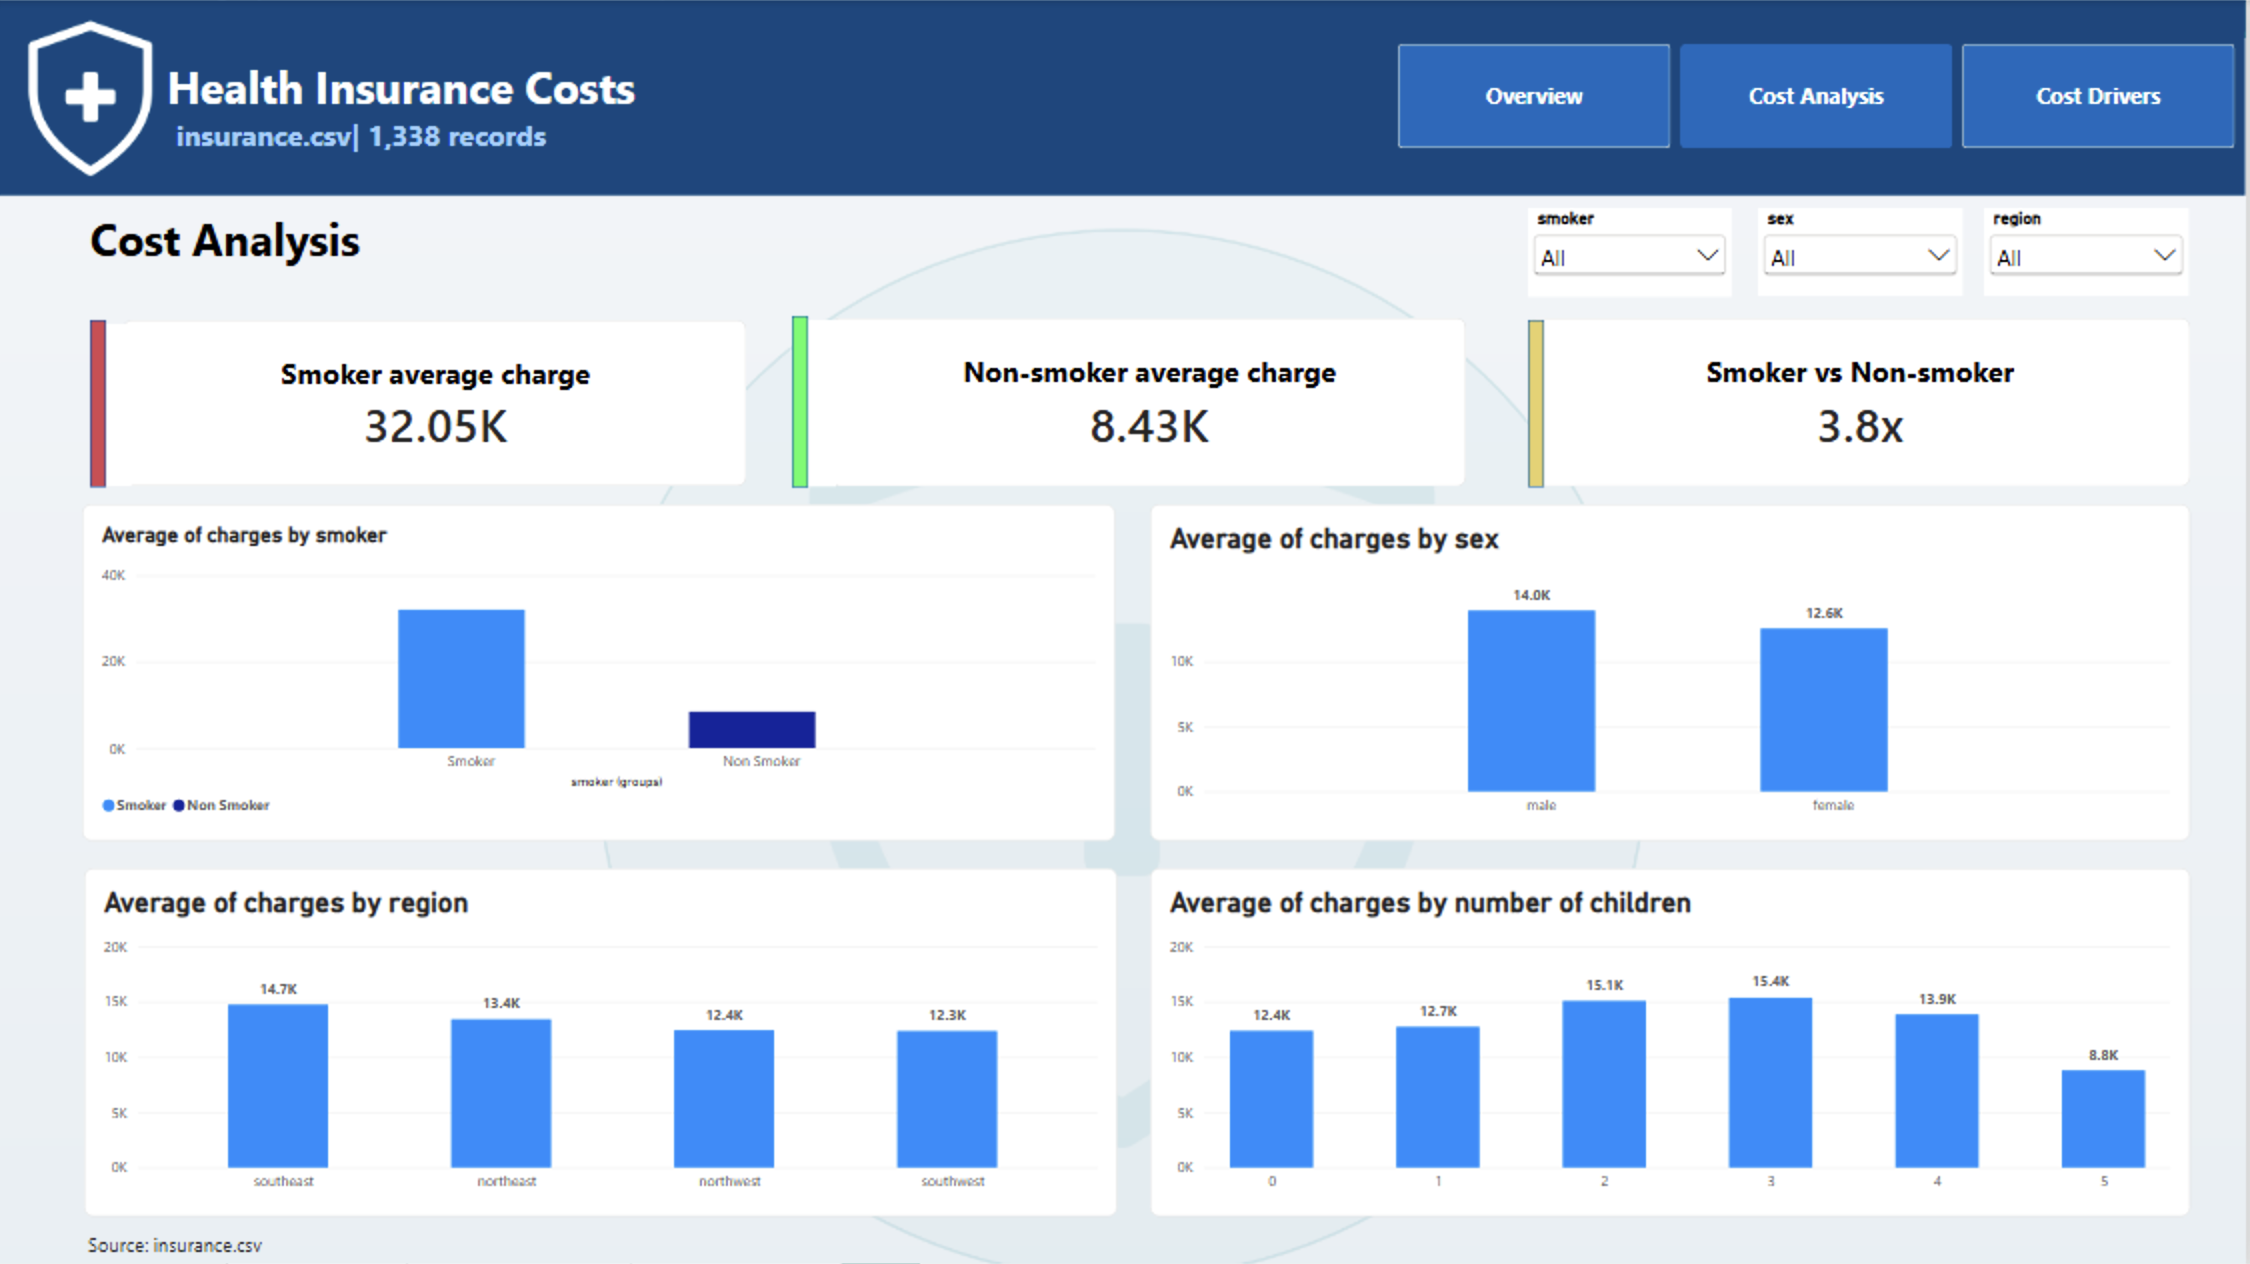

The page's visual inventory and layout, read from the dashboard file:
{"tool":"powerbi","page":{"name":"Cost Analysis","canvas":[1920,1080],"ordinal":1},"visuals":[{"type":"cardVisual","fields":{"Data":["Avg(insurance.charges)"],"Rows":["insurance.smoker"]},"box":[72.8,273.3,566.7,142.7],"z":0},{"type":"textbox","box":[0,0,1920,167],"z":1000},{"type":"textbox","box":[79.2,179.1,282.4,65.4],"z":2000},{"type":"cardVisual","fields":{"Data":["Avg(insurance.charges)"],"Rows":["insurance.smoker"]},"box":[679.1,271.3,576.6,144.6],"z":3000},{"type":"cardVisual","fields":{"Data":["insurance.Smoker vs Non-smoker"]},"box":[1307.2,271.3,566.7,144.6],"z":4000},{"type":"shape","box":[1307.2,273.3,13.9,142.7],"z":5000},{"type":"slicer","fields":{"Values":["insurance.sex"]},"box":[1503.3,177.4,175,75],"z":6000},{"type":"slicer","fields":{"Values":["insurance.smoker"]},"box":[1307,177.4,173.9,75.8],"z":7000},{"type":"slicer","fields":{"Values":["insurance.region"]},"box":[1696.1,177.4,175,75],"z":8000},{"type":"textbox","box":[77.5,1052.1,322,27.6],"z":9000},{"type":"image","box":[0,0,158.4,167],"z":11000},{"type":"shape","box":[78.7,277.3,35.7,138.7],"z":12000},{"type":"shape","box":[679.1,273.3,37.6,142.7],"z":13000},{"type":"shape","box":[78.7,273.3,13.9,142.7],"z":14000},{"type":"shape","box":[679.1,269.4,13.9,146.6],"z":15000},{"type":"columnChart","title":"Average of charges by smoker","fields":{"Category":["insurance.smoker (groups)"],"Series":["insurance.smoker (groups)"],"Y":["Avg(insurance.charges)"]},"box":[72.3,430.5,883.4,287.6],"z":16000},{"type":"columnChart","fields":{"Category":["insurance.sex"],"Y":["Avg(insurance.charges)"]},"box":[985,430.5,888.5,287.6],"z":17000},{"type":"columnChart","fields":{"Category":["insurance.region"],"Y":["Avg(insurance.charges)"]},"box":[74,742.2,883.4,297.9],"z":18000},{"type":"columnChart","title":"Average of charges by  number of children","fields":{"Category":["insurance.children"],"Y":["Avg(insurance.charges)"]},"box":[985,742.2,888.5,297.9],"z":19000},{"type":"pageNavigator","box":[1196.8,37.9,716.3,89.5],"z":19001}]}

Visuals, with their boxes in screenshot pixels (x1, y1, x2, y2), scaled from the page's 1920x1080 canvas onto the 2250x1264 screenshot:
cardVisual - Avg(insurance.charges) x insurance.smoker: locate(85, 320, 749, 487)
textbox: locate(0, 0, 2249, 195)
textbox: locate(93, 210, 424, 286)
cardVisual - Avg(insurance.charges) x insurance.smoker: locate(796, 318, 1472, 487)
cardVisual - insurance.Smoker vs Non-smoker: locate(1532, 318, 2196, 487)
shape: locate(1532, 320, 1548, 487)
slicer - insurance.sex: locate(1762, 208, 1967, 295)
slicer - insurance.smoker: locate(1532, 208, 1735, 296)
slicer - insurance.region: locate(1988, 208, 2193, 295)
textbox: locate(91, 1231, 468, 1263)
image: locate(0, 0, 186, 195)
shape: locate(92, 325, 134, 487)
shape: locate(796, 320, 840, 487)
shape: locate(92, 320, 109, 487)
shape: locate(796, 315, 812, 487)
"Average of charges by smoker" columnChart: locate(85, 504, 1120, 840)
columnChart - insurance.sex x Avg(insurance.charges): locate(1154, 504, 2196, 840)
columnChart - insurance.region x Avg(insurance.charges): locate(87, 869, 1122, 1217)
"Average of charges by  number of children" columnChart: locate(1154, 869, 2196, 1217)
pageNavigator: locate(1402, 44, 2242, 149)
